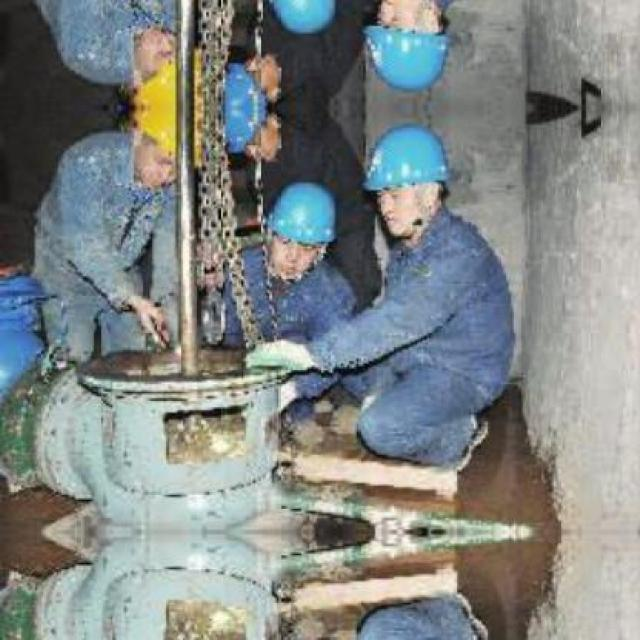helmet: (363, 123, 459, 242), (363, 0, 460, 93), (265, 183, 344, 278), (128, 110, 192, 192), (128, 24, 192, 106), (217, 109, 285, 159), (217, 57, 285, 106), (264, 0, 344, 34)
